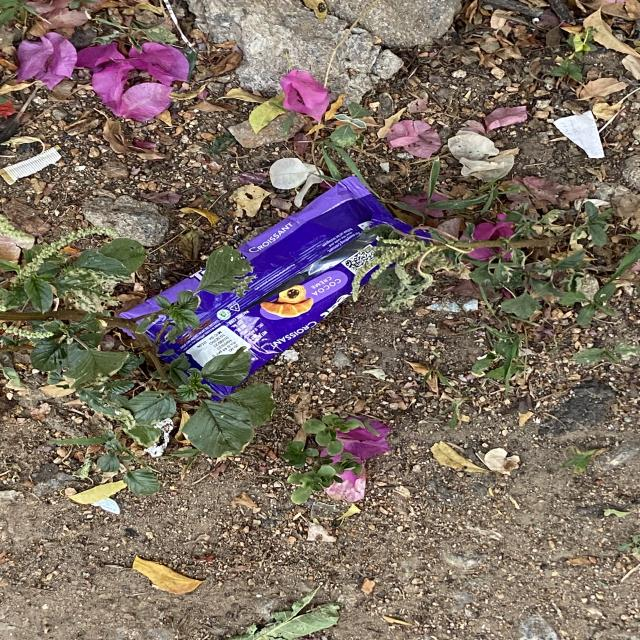giay_goi: (159, 176, 411, 372)
